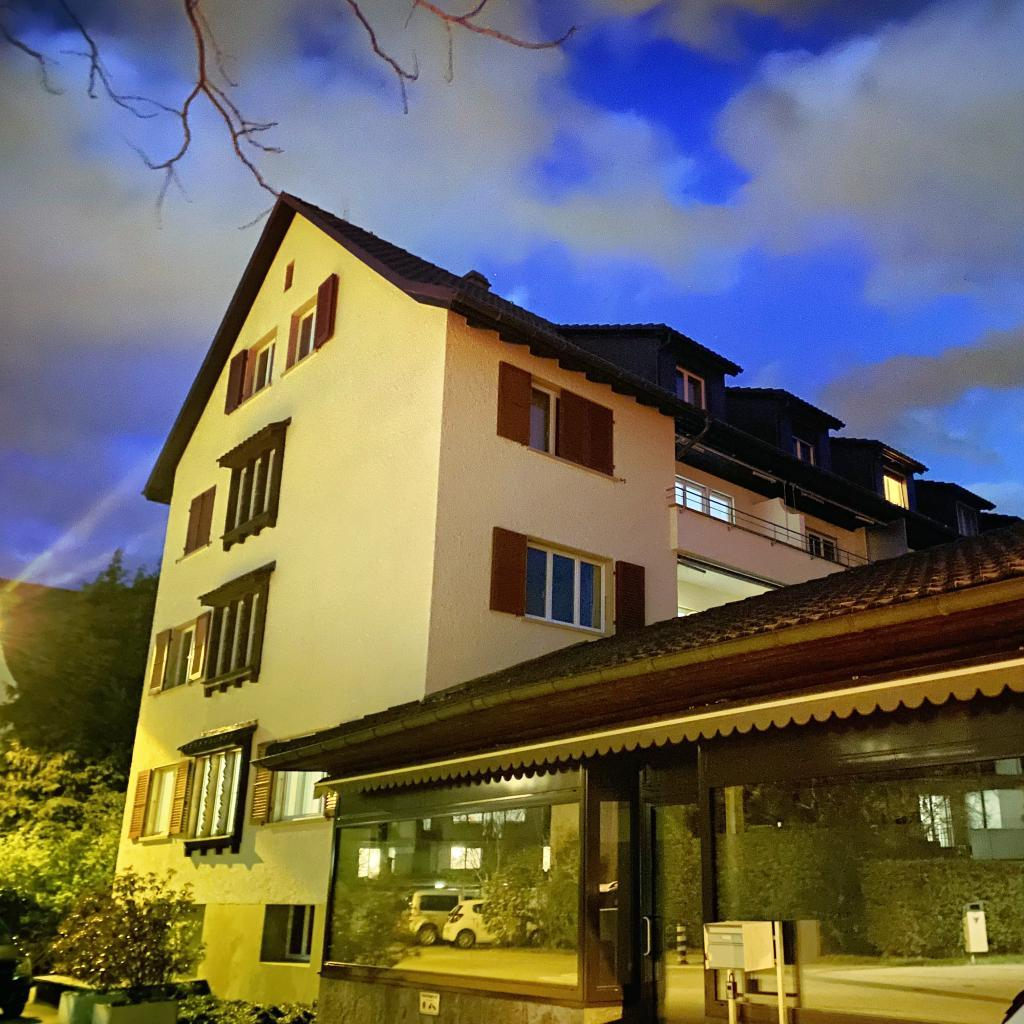balcony-fence: (666, 485, 875, 568)
car: (0, 913, 33, 1016), (999, 989, 1024, 1024)
non-building-infrastructure: (702, 919, 789, 1024), (31, 974, 211, 1024)
shop: (315, 661, 1024, 1024), (735, 970, 776, 1024)
street: (97, 189, 1024, 998)
vegetation: (0, 546, 208, 986), (1, 0, 287, 234), (404, 0, 580, 85), (345, 0, 421, 117), (178, 995, 315, 1024)
window: (525, 539, 607, 633), (531, 383, 602, 471), (193, 749, 242, 838), (210, 593, 258, 678), (149, 904, 206, 975), (234, 448, 276, 529), (275, 771, 330, 821), (674, 476, 732, 522), (182, 484, 216, 556), (283, 905, 315, 961), (173, 623, 197, 686), (294, 303, 318, 364), (251, 337, 276, 395), (152, 770, 174, 834), (676, 366, 707, 410), (806, 528, 838, 561), (884, 470, 906, 508), (957, 499, 978, 535), (790, 436, 816, 465)
